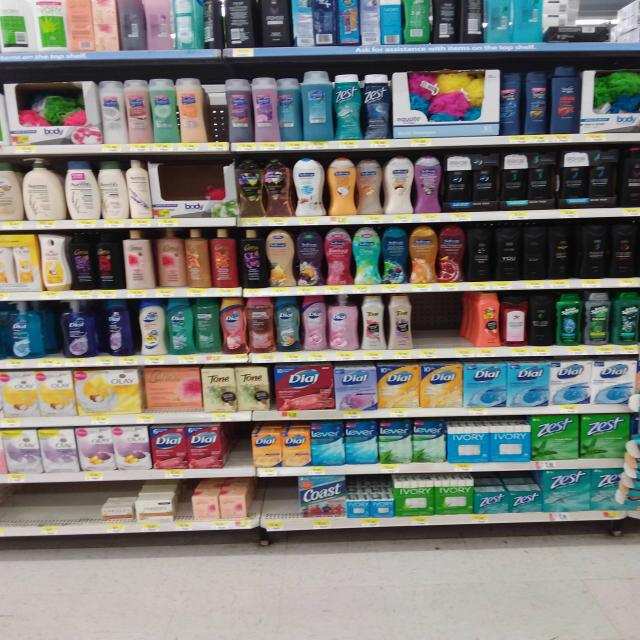100- O.O.S: (34, 486, 100, 534), (412, 294, 458, 358), (263, 478, 297, 530), (1, 485, 31, 536), (229, 424, 250, 476), (180, 482, 191, 530)
